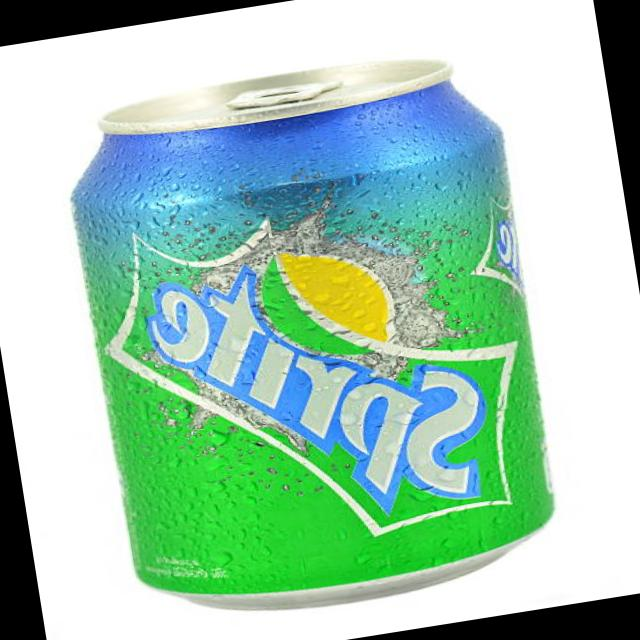sprite: (58, 31, 591, 634)
